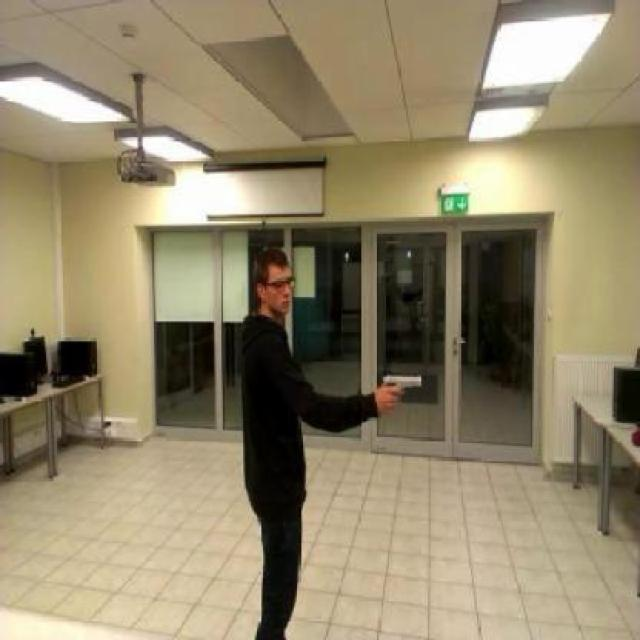gun: (382, 373, 420, 407)
